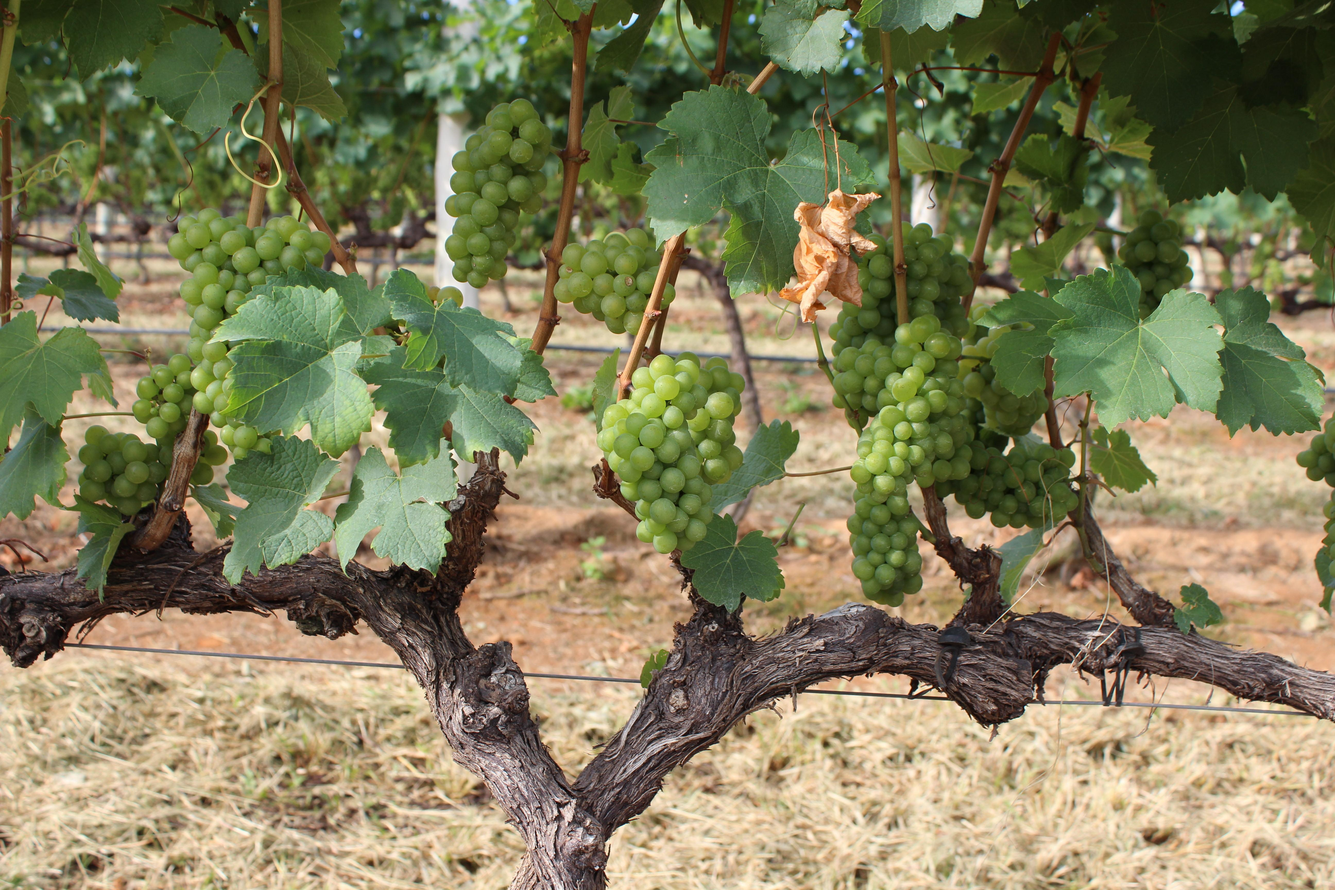leaf: (644, 85, 871, 294), (1050, 266, 1222, 425), (214, 287, 373, 456), (362, 347, 535, 466), (1148, 87, 1317, 201), (1102, 0, 1240, 132), (383, 269, 523, 395), (224, 437, 338, 583), (1215, 287, 1324, 434), (335, 448, 456, 574), (0, 311, 109, 438), (135, 24, 257, 133), (681, 516, 784, 611), (251, 266, 392, 335), (980, 290, 1071, 395), (708, 420, 800, 512), (63, 0, 162, 78), (0, 409, 69, 519), (69, 494, 135, 599), (951, 0, 1048, 70), (450, 386, 537, 464), (759, 0, 849, 74), (1287, 133, 1335, 258), (1015, 133, 1087, 212), (1010, 223, 1095, 289), (15, 269, 119, 322), (579, 85, 634, 184), (282, 43, 347, 121), (596, 0, 663, 73), (1089, 425, 1157, 491), (997, 524, 1052, 603), (281, 0, 344, 68), (857, 0, 983, 33), (76, 223, 123, 299), (899, 130, 974, 173), (191, 483, 241, 539), (1174, 582, 1223, 634), (890, 28, 950, 70), (608, 142, 653, 196), (592, 348, 620, 431), (971, 79, 1031, 115), (863, 28, 880, 65), (251, 10, 269, 42), (253, 53, 268, 78), (284, 66, 287, 93), (1026, 285, 1034, 286), (863, 7, 866, 9), (24, 10, 25, 15), (285, 58, 285, 63), (234, 489, 234, 490)
